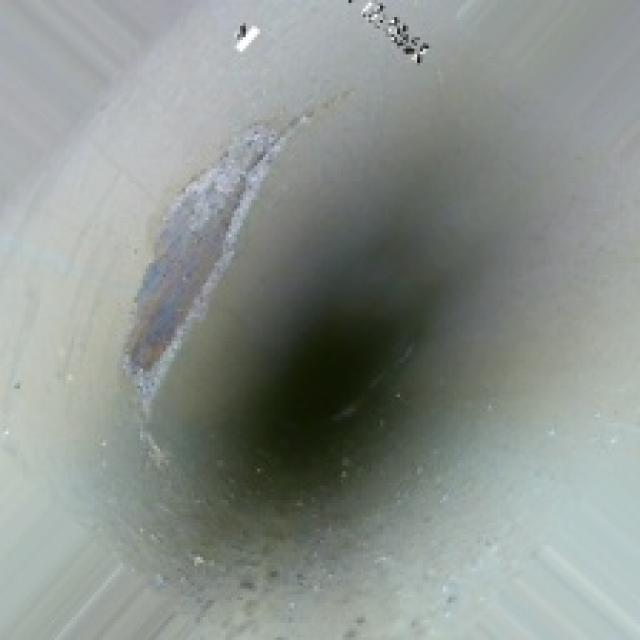pipe_surface_damage: (106, 97, 263, 412)
